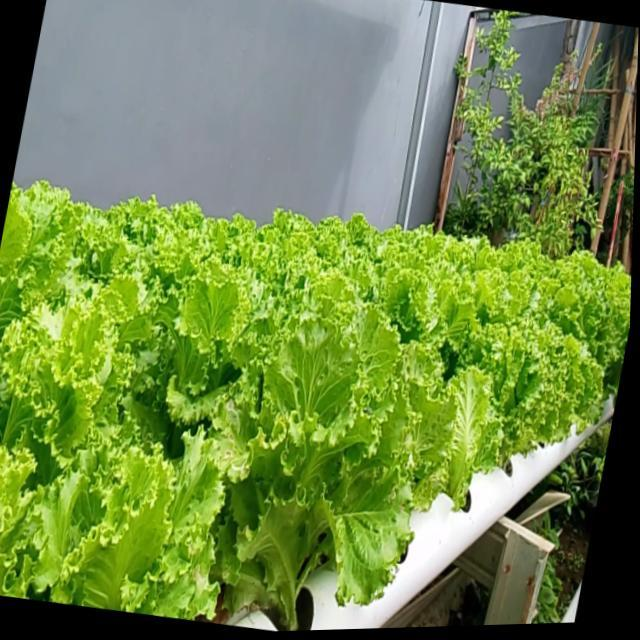Mature: (212, 306, 456, 631), (468, 311, 586, 472)
